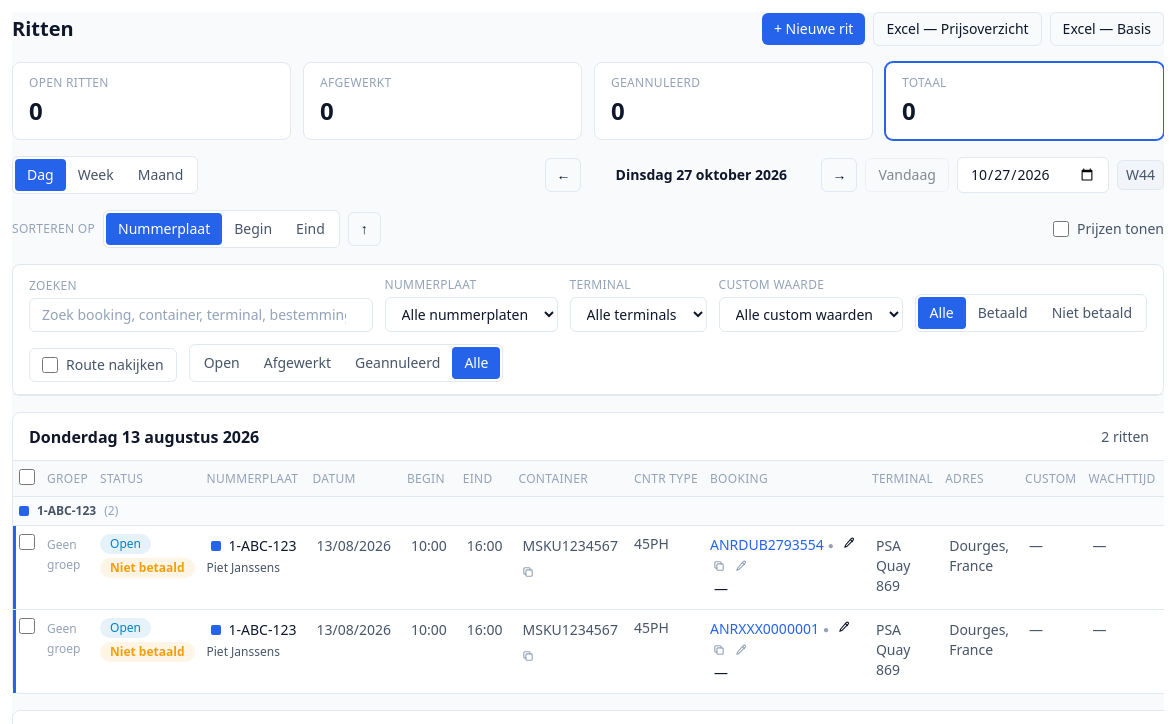
the booking number's notes › shows one row's note and never another's
Hover over the link "ANRDUB2793554" at x=767, y=544, box [710,534,824,554]
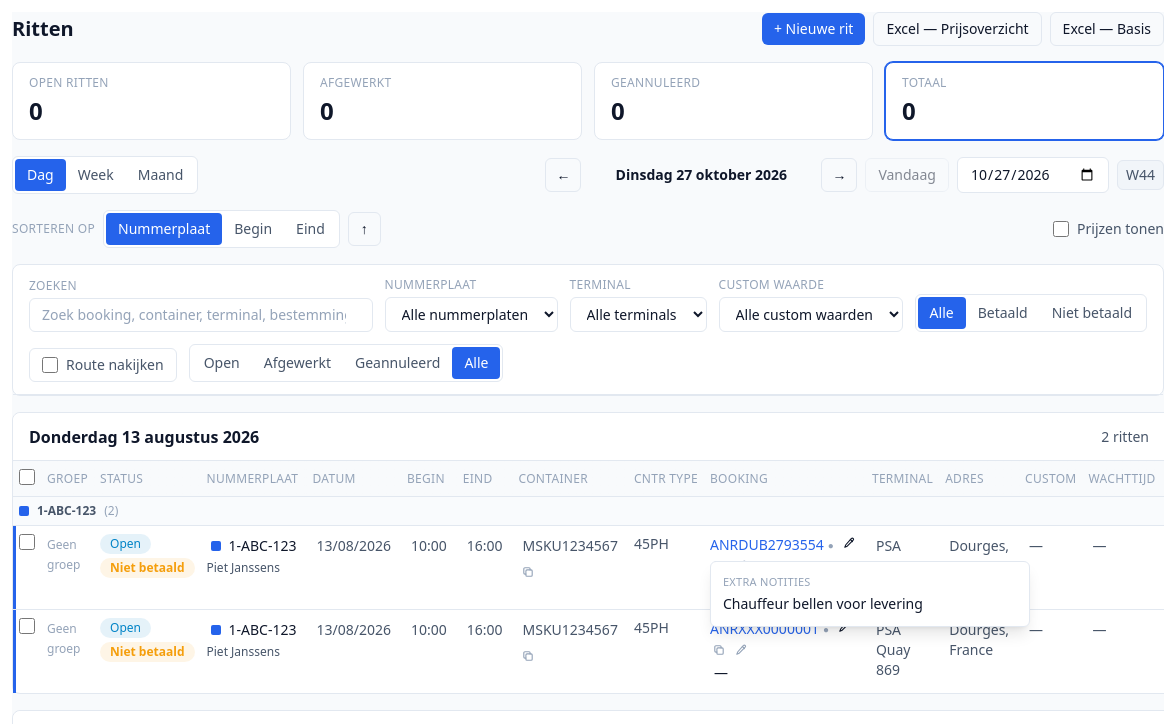
Expected: the tooltip does not show "Andere notitie", [710,560,1030,627]
Expected: the tooltip shows "Chauffeur bellen voor levering", [723,594,923,613]
